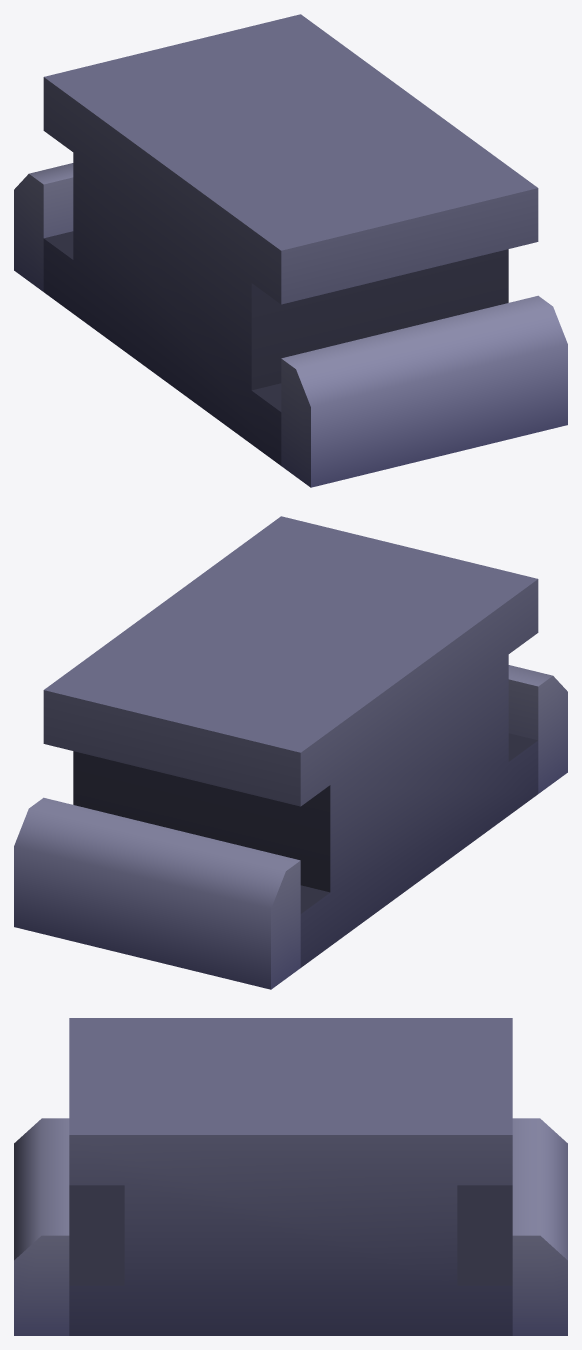
File: conveyor-long-sides-part-middle.glb
The picture shows the model from 3 angles, top to bottom: view 1: azimuth 30°, elevation 25°; view 2: azimuth 150°, elevation 25°; view 3: azimuth 270°, elevation 25°; orthographic projection. The views are drawn at different scales.
Visible parts, largest first — view 1: conveyor-long-sides-part-middle; view 2: conveyor-long-sides-part-middle; view 3: conveyor-long-sides-part-middle.
Boxes of the visible parts, x1,y1,x2,y2 form: conveyor-long-sides-part-middle: [14, 14, 567, 487]; conveyor-long-sides-part-middle: [14, 516, 567, 989]; conveyor-long-sides-part-middle: [14, 1018, 567, 1335].
Size of the model in its own units: 0.5 by 0.4 by 1.
